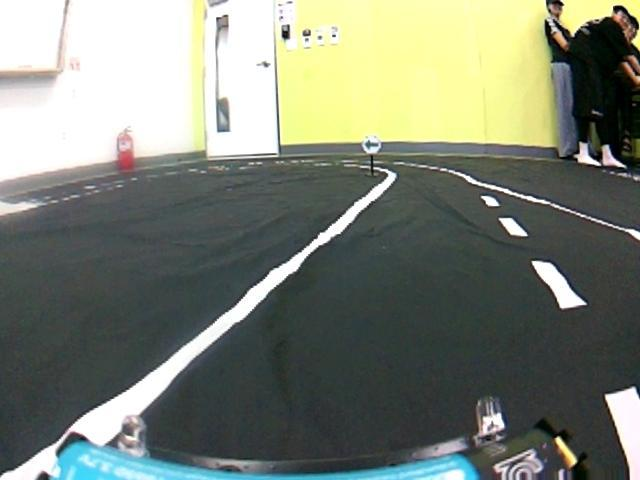right: (11, 205, 640, 479)
sign_left: (360, 133, 380, 154)
